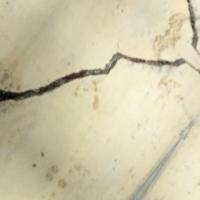crack: (0, 0, 199, 158)
